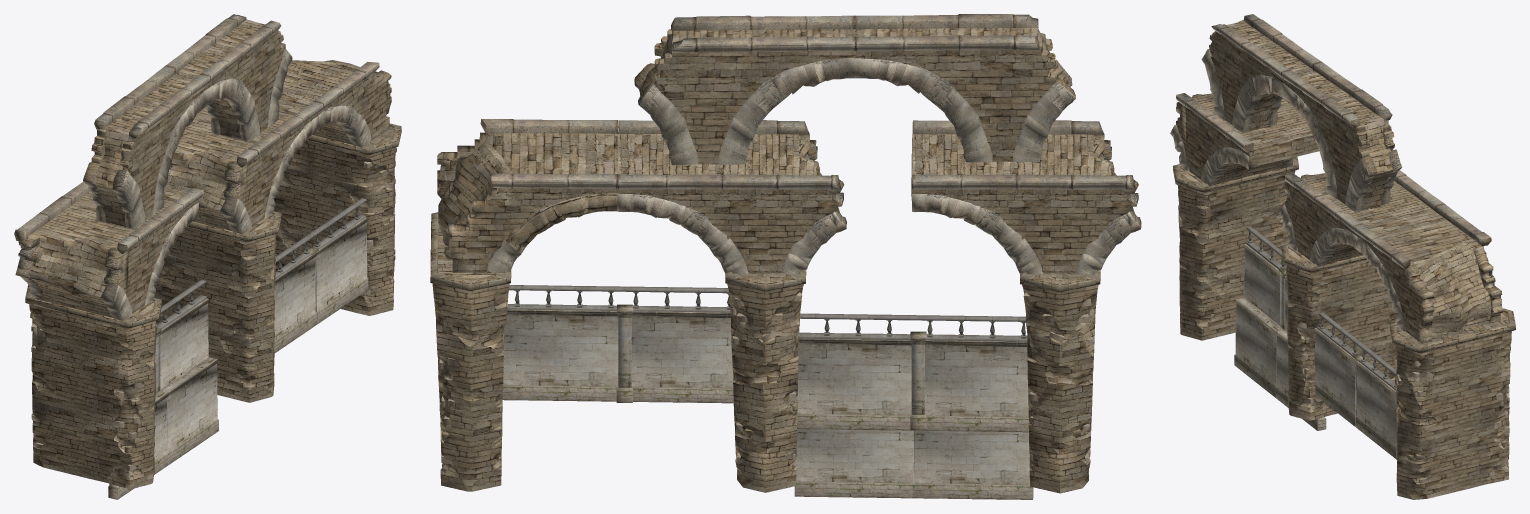
The model's file is Tower6.fbx.
3 views of the same model, side by side, from view 1: azimuth 30°, elevation 25°; view 2: azimuth 150°, elevation 25°; view 3: azimuth 270°, elevation 25° (orthographic). The views are drawn at different scales.
Visible parts, largest first — view 1: Edit_MERGED_StaticMeshActor_02; view 2: Edit_MERGED_StaticMeshActor_02; view 3: Edit_MERGED_StaticMeshActor_02.
Boxes of the visible parts, left/top/right/bottom form: Edit_MERGED_StaticMeshActor_02: left=14, top=14, right=401, bottom=499; Edit_MERGED_StaticMeshActor_02: left=430, top=14, right=1141, bottom=499; Edit_MERGED_StaticMeshActor_02: left=1170, top=14, right=1515, bottom=499.
Size of the model in its own units: 10.26 by 7.7 by 6.96.
